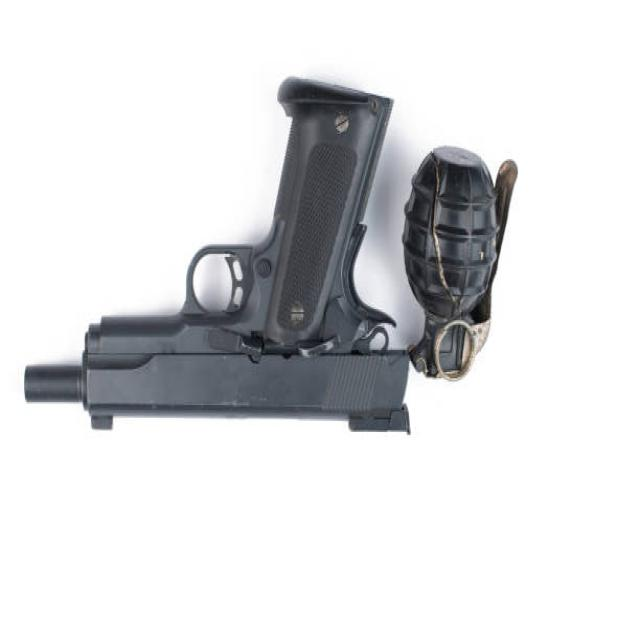grenade: (401, 144, 523, 387)
